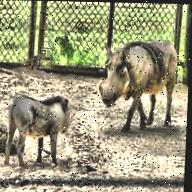boar: (91, 34, 191, 117), (2, 80, 72, 166)
